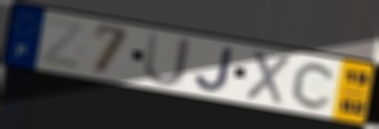7: (90, 22, 133, 76)
C: (289, 60, 340, 111)
J: (193, 45, 235, 94)
U: (142, 30, 193, 88)
X: (243, 48, 292, 107)
Z: (38, 15, 89, 72)
